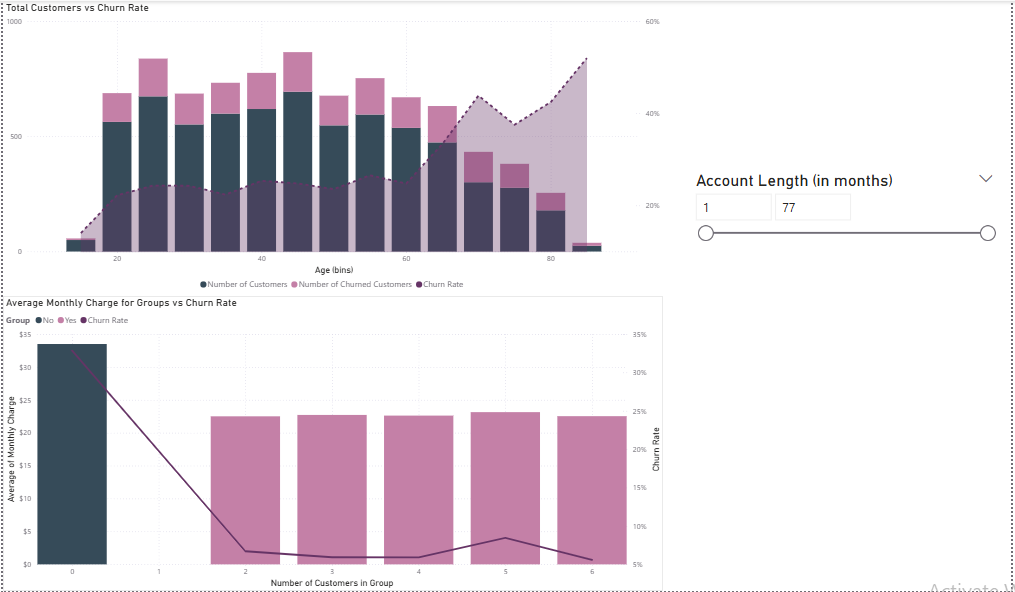

The page's visual inventory and layout, read from the dashboard file:
{"tool":"powerbi","page":{"name":"Inspecting Groups","canvas":[1280,720],"ordinal":6},"visuals":[{"type":"lineStackedColumnComboChart","title":"Average Monthly Charge for Groups vs Churn Rate","fields":{"Category":["Databel - Data.Number of Customers in Group"],"Y":["Databel - Data.Monthly Charge"],"Y2":["_Calculations.Churn Rate"],"Series":["Databel - Data.Group"]},"box":[26.2,0,630.4,501],"z":0},{"type":"pivotTable","fields":{"Rows":["Databel - Data.Group"],"Columns":["Databel - Data.Number of Customers in Group"],"Values":["Databel - Data.Monthly Charge"]},"box":[722.6,212,527.1,148.6],"z":1000},{"type":"card","fields":{"Values":["_Calculations.Churn Rate"]},"box":[722.6,0,280.8,159.7],"z":2000}]}

Visuals, with their boxes on the page's 1280x720 design canvas (x1, y1, x2, y2). These are canvas units, not pixel positions in the 1015x592 screenshot, which may show the page scaled, cropped or inside an application window:
"Average Monthly Charge for Groups vs Churn Rate" lineStackedColumnComboChart: <box>26,0,657,501</box>
pivotTable - Databel - Data.Group x Databel - Data.Number of Customers in Group: <box>723,212,1250,361</box>
card - _Calculations.Churn Rate: <box>723,0,1003,160</box>
